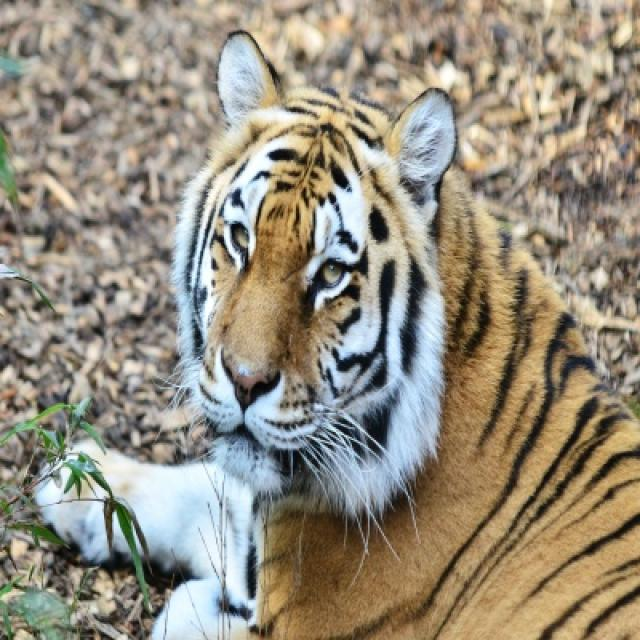Tiger: (36, 31, 638, 638)
